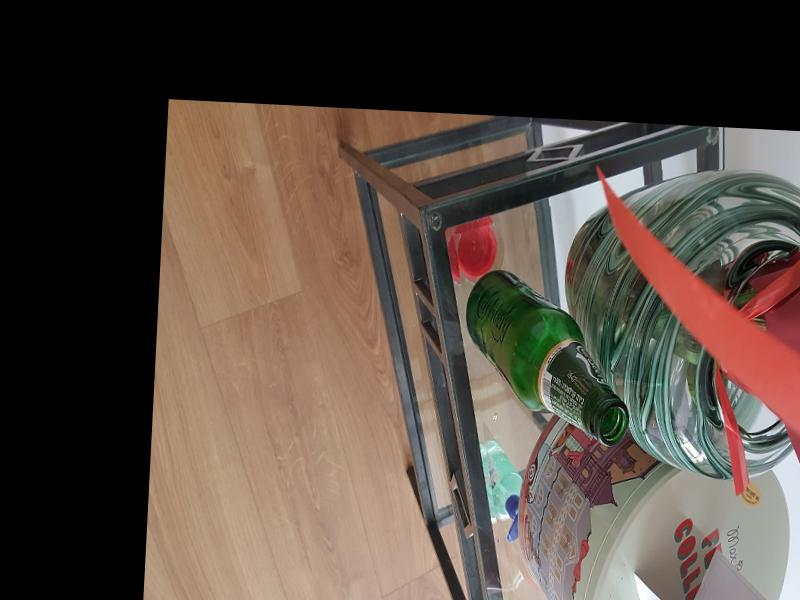Beer: (460, 266, 635, 445)
